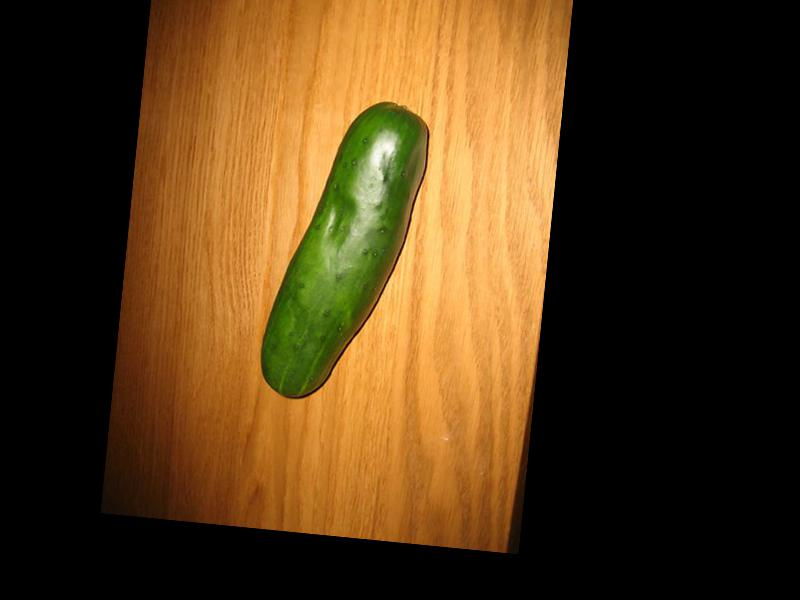Cucumber: (258, 96, 432, 410)
